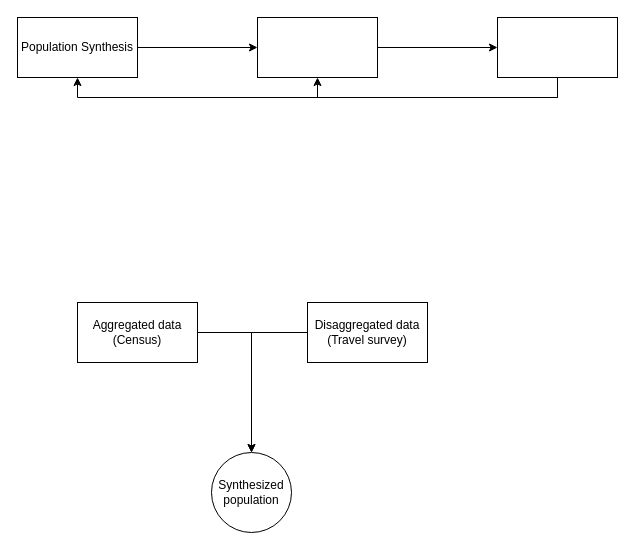
Image size: 635x550. Some labels were removed from this diagram. Here are the shapes that lost their labels. From the top down, the centre of each, then its label:
[317,47]: Activities generation
[557,47]: Microscopic stimulation
